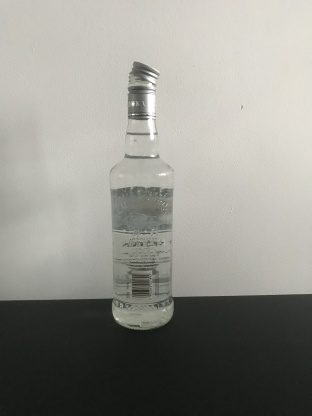nakretka: (125, 59, 160, 119)
